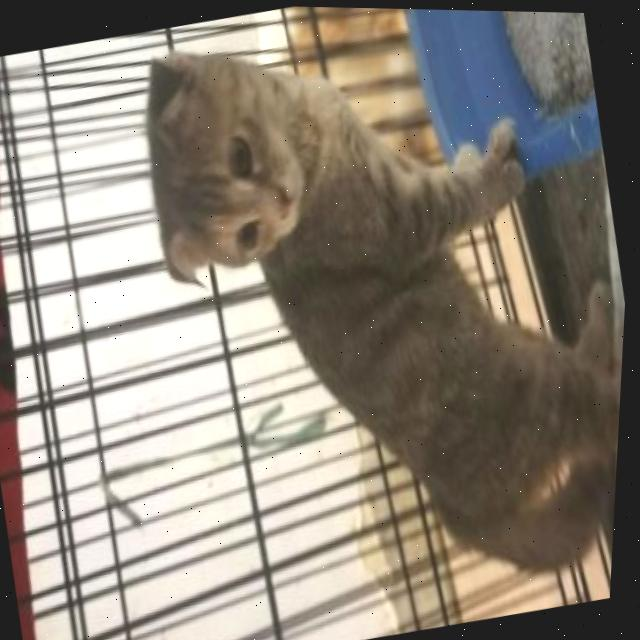Scottish Fold: (101, 2, 640, 640)
